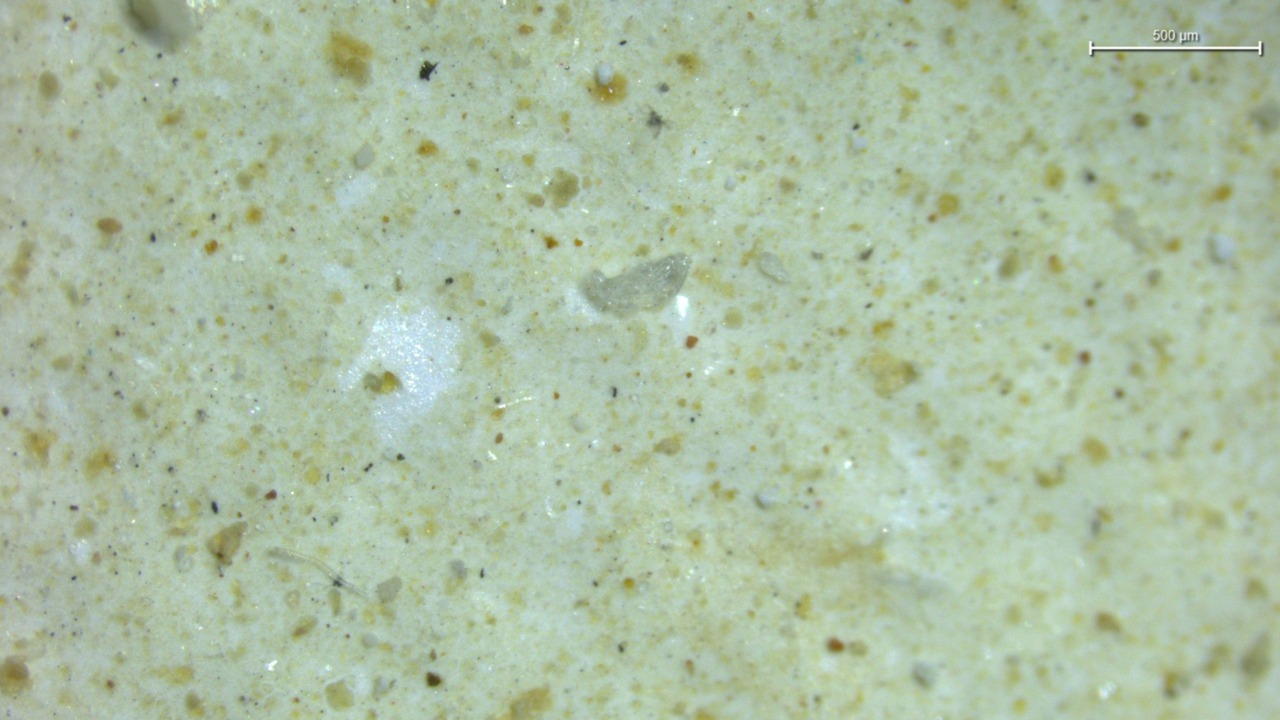microplastic_fragment: (580, 254, 690, 315), (757, 251, 789, 283)
